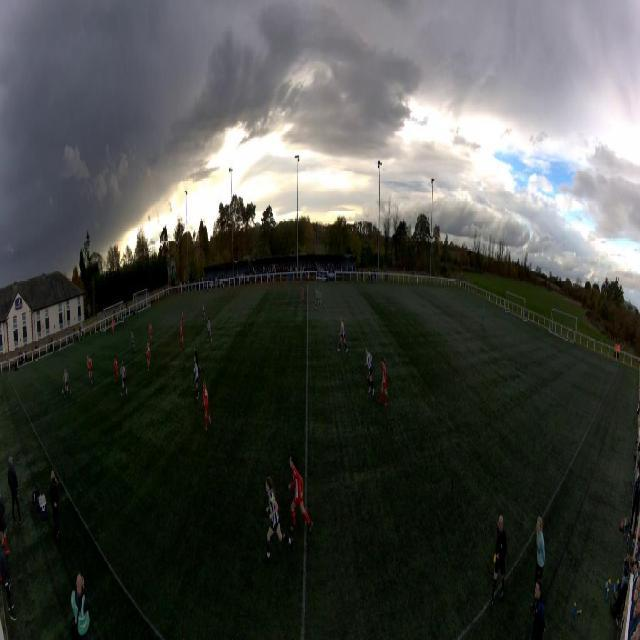ball: (62, 390, 64, 394)
player: (262, 475, 294, 564), (287, 452, 315, 532), (365, 345, 376, 396), (379, 358, 389, 406), (202, 379, 211, 431), (338, 317, 348, 353), (62, 368, 71, 399), (194, 344, 201, 383), (194, 360, 200, 398), (121, 361, 127, 398), (87, 353, 93, 385), (207, 317, 213, 344), (179, 321, 184, 350), (114, 355, 118, 384), (318, 290, 324, 309), (147, 343, 151, 371), (149, 322, 153, 344), (481, 305, 485, 326), (181, 309, 185, 330), (314, 289, 318, 310), (202, 301, 206, 319), (302, 286, 306, 303), (131, 332, 134, 351), (112, 319, 115, 335)
